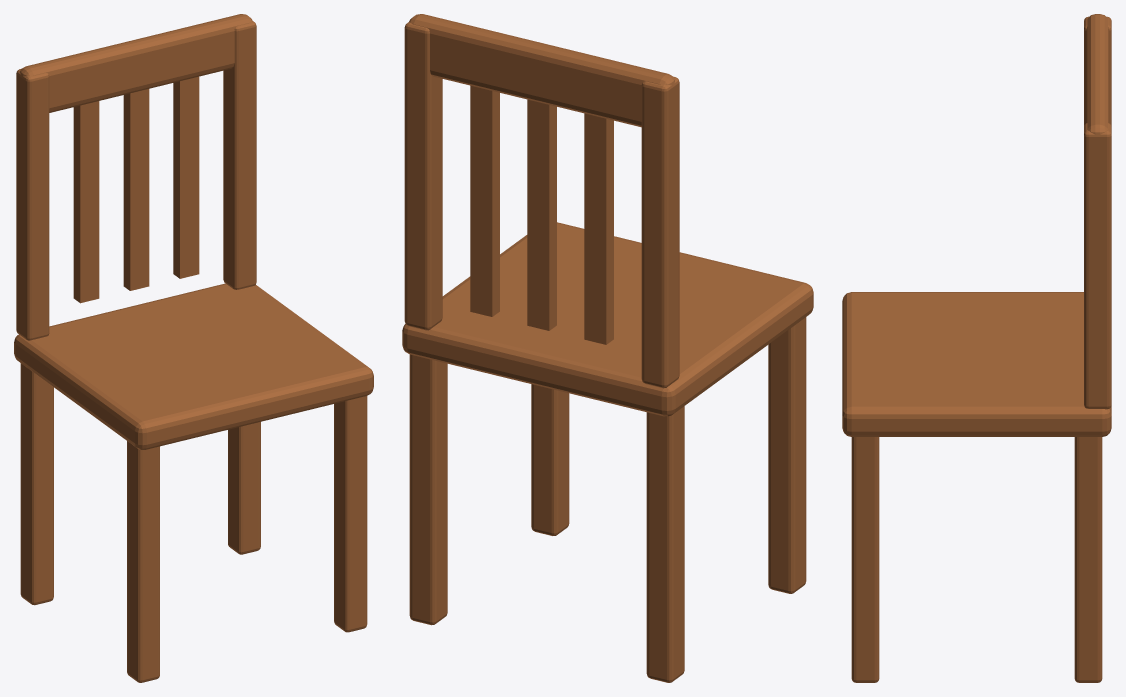
File: silla_madera.glb
3 renders of one model, left to right at view 1: azimuth 30°, elevation 25°; view 2: azimuth 150°, elevation 25°; view 3: azimuth 270°, elevation 25°, orthographic. The views are drawn at different scales.
Parts seen in each view (by area): view 1: Cube, Cube.007, Cube.003, Cube.006, Cube.004, Cube.002, Cube.001, Cube.008, Cube.010, Cube.009, Cube.005; view 2: Cube, Cube.007, Cube.003, Cube.006, Cube.002, Cube.005, Cube.001, Cube.009, Cube.010, Cube.008, Cube.004; view 3: Cube, Cube.006, Cube.004, Cube.005, Cube.007, Cube.003.
Part boxes in pixels (x1=…): Cube: x1=14, y1=283, x2=373, y2=449; Cube.007: x1=20, y1=14, x2=252, y2=112; Cube.003: x1=16, y1=68, x2=49, y2=340; Cube.006: x1=223, y1=21, x2=256, y2=289; Cube.004: x1=334, y1=396, x2=367, y2=632; Cube.002: x1=20, y1=363, x2=53, y2=605; Cube.001: x1=127, y1=441, x2=159, y2=682; Cube.008: x1=73, y1=101, x2=99, y2=303; Cube.010: x1=173, y1=76, x2=199, y2=278; Cube.009: x1=123, y1=89, x2=149, y2=290; Cube.005: x1=228, y1=422, x2=260, y2=554; Cube: x1=402, y1=222, x2=813, y2=416; Cube.007: x1=409, y1=14, x2=675, y2=127; Cube.003: x1=641, y1=76, x2=679, y2=388; Cube.006: x1=404, y1=22, x2=442, y2=330; Cube.002: x1=646, y1=406, x2=684, y2=682; Cube.005: x1=409, y1=354, x2=447, y2=625; Cube.001: x1=768, y1=317, x2=806, y2=593; Cube.009: x1=527, y1=99, x2=556, y2=330; Cube.010: x1=470, y1=85, x2=499, y2=316; Cube.008: x1=584, y1=113, x2=613, y2=344; Cube.004: x1=531, y1=384, x2=569, y2=535; Cube: x1=842, y1=292, x2=1111, y2=436; Cube.006: x1=1084, y1=123, x2=1111, y2=409; Cube.004: x1=851, y1=437, x2=879, y2=682; Cube.005: x1=1074, y1=437, x2=1102, y2=682; Cube.007: x1=1086, y1=14, x2=1109, y2=170; Cube.003: x1=1084, y1=16, x2=1111, y2=126.
Size of the model in its own units: 0.62 by 1.32 by 0.58.
